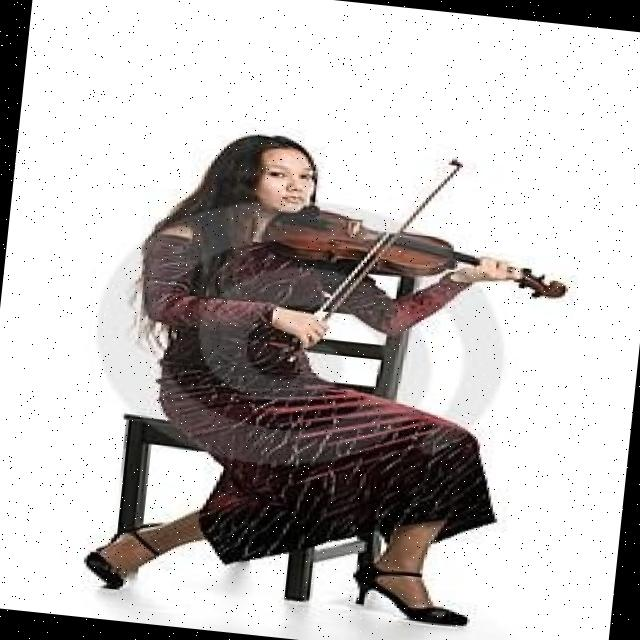violin: (255, 200, 578, 300)
